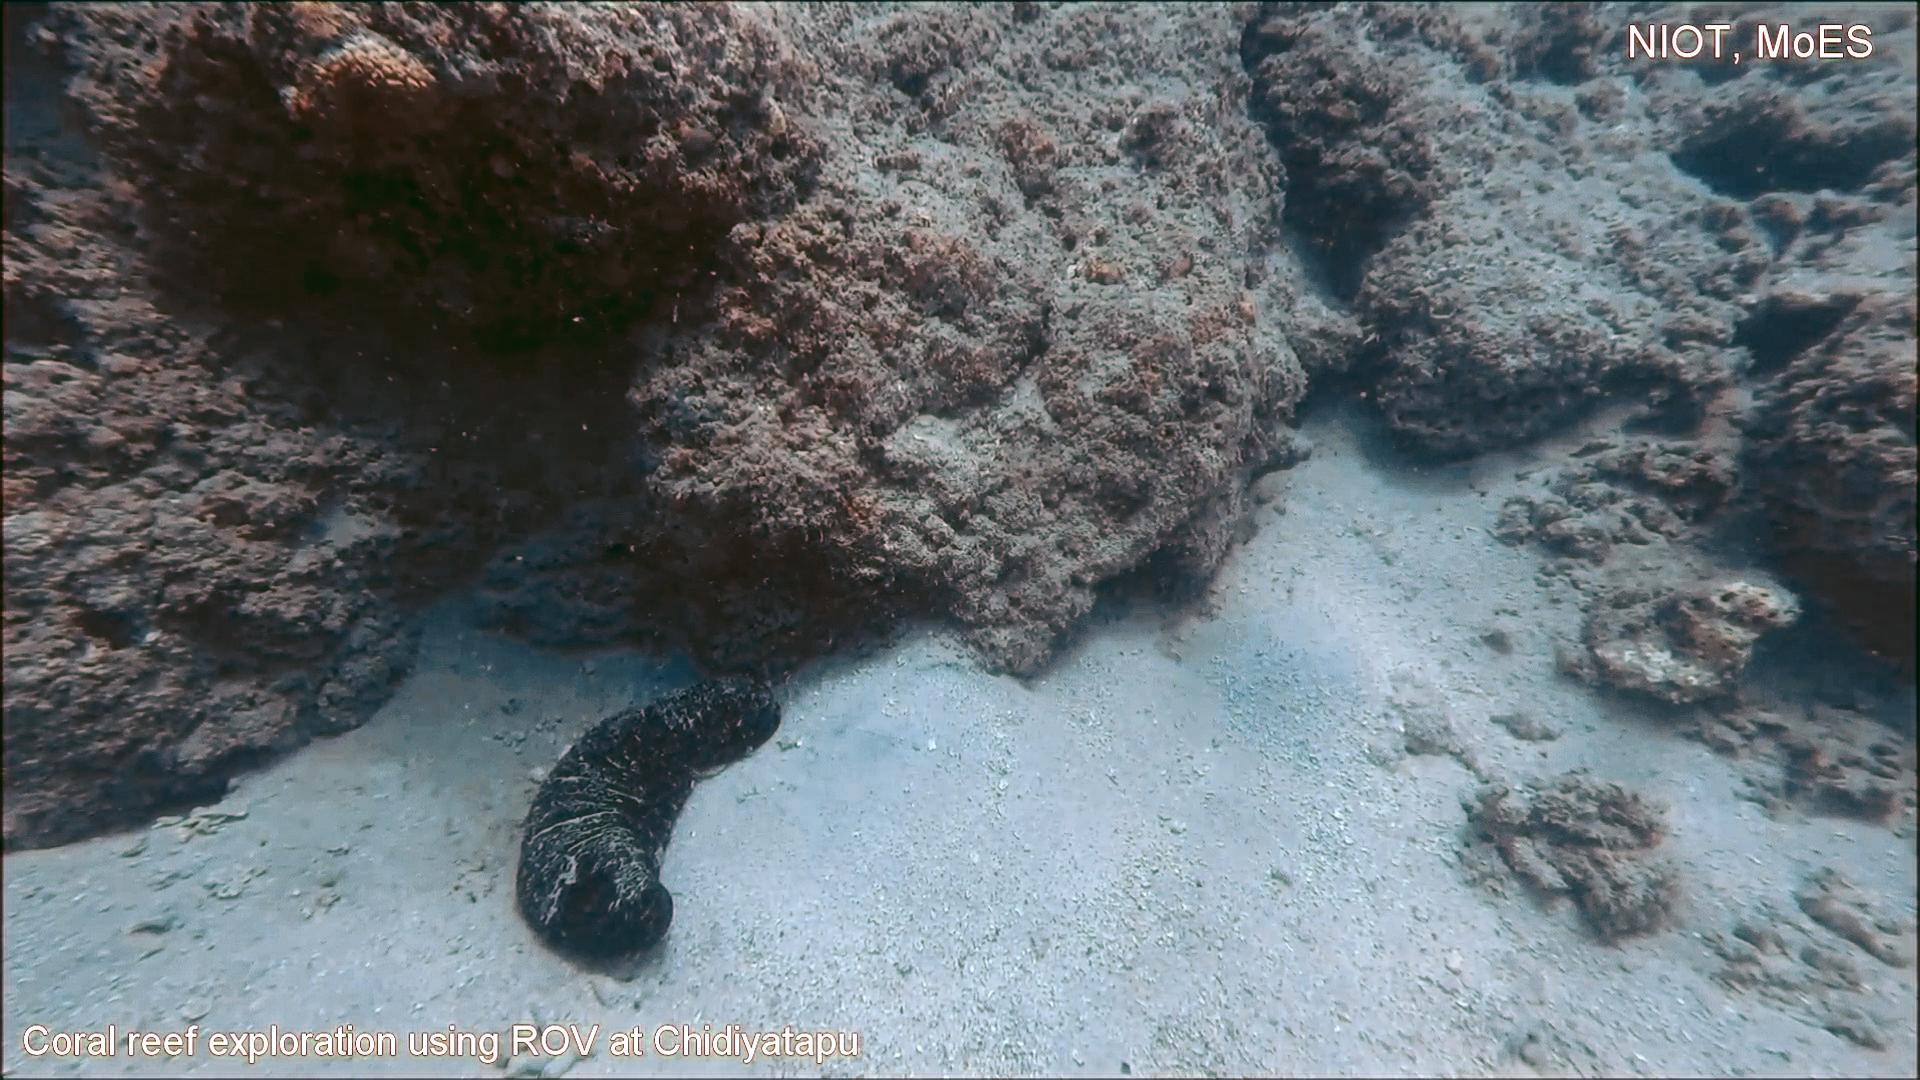Montastraea: (270, 25, 463, 178)
